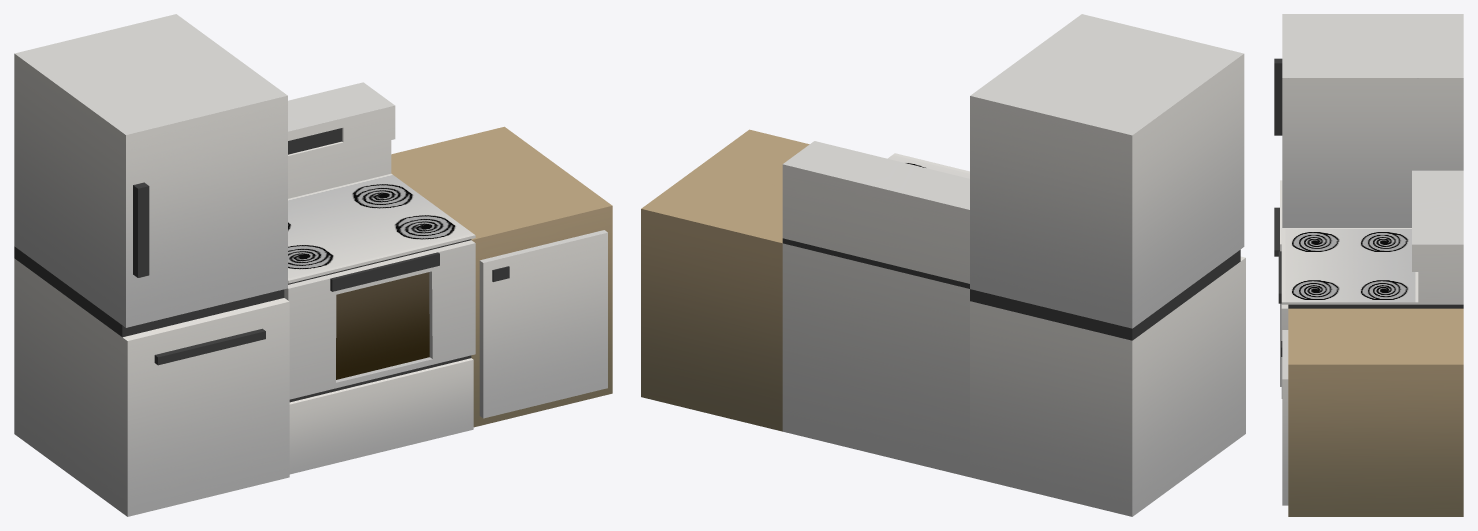
The model's file is oven_etc.fbx.
3 views of the same model, side by side, from view 1: azimuth 30°, elevation 25°; view 2: azimuth 150°, elevation 25°; view 3: azimuth 270°, elevation 25° (orthographic). The views are drawn at different scales.
Visible parts, largest first — view 1: StoveCombo; view 2: StoveCombo; view 3: StoveCombo.
Part boxes in pixels (left/top/right/bottom): StoveCombo: left=14, top=14, right=612, bottom=516; StoveCombo: left=641, top=14, right=1245, bottom=516; StoveCombo: left=1274, top=14, right=1463, bottom=516.
Bounding box in the file's own units: 41.57 × 30.85 × 17.12.
